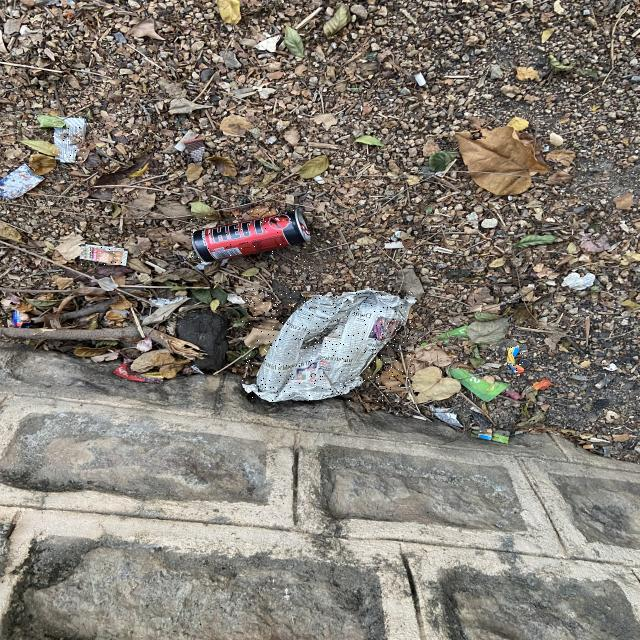metal: (192, 208, 309, 262)
paper: (243, 289, 415, 401), (78, 244, 127, 265)
wrapper: (52, 117, 85, 162), (508, 346, 525, 374)
